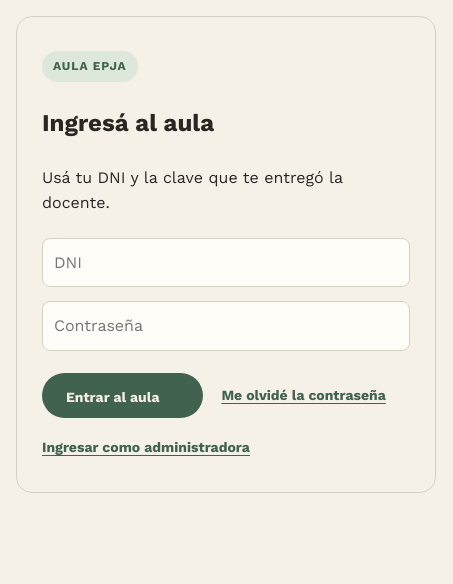
LoginEpja › muestra un mensaje claro cuando la API responde sin JSON
The width and height of the screenshot is (453, 584).
Type "41041037" into the field with placeholder "DNI" at (226, 263), box [42,238,410,287]
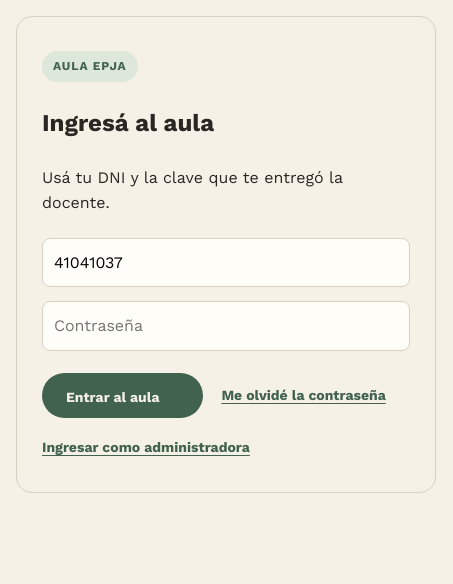
Type "clave-segura" into the password field with placeholder "Contraseña" at (226, 326), box [42,301,410,351]
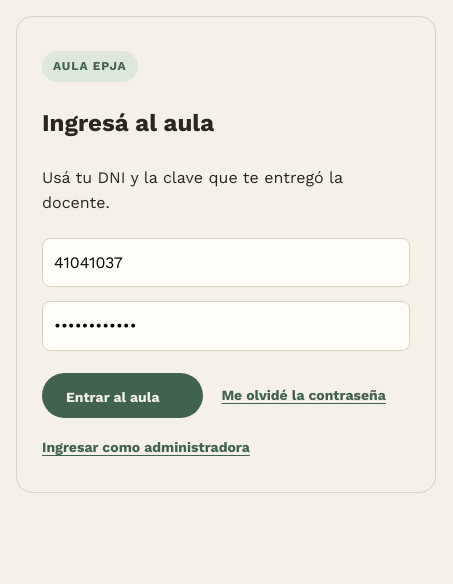
Submit the form
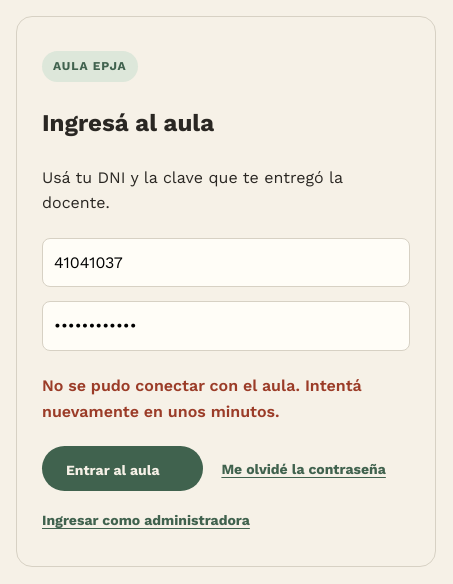
Now the text with class "error" reads "No se pudo conectar con el aula. Intentá nuevamente en unos minutos.", box [42,376,362,421]
